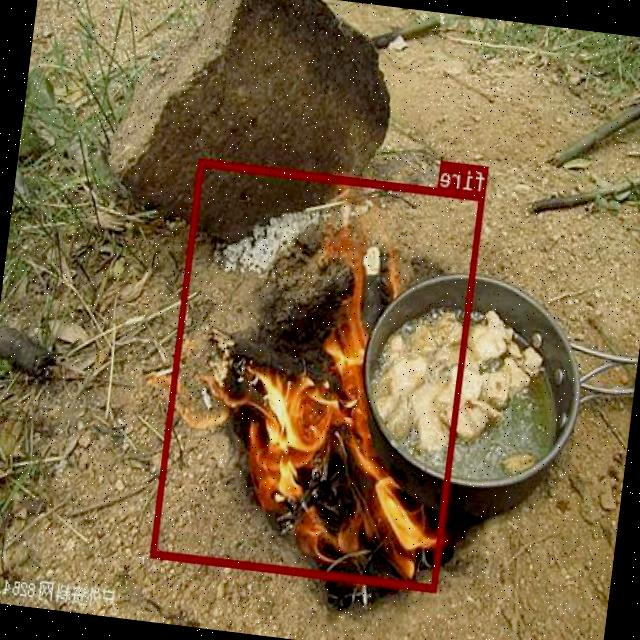fire: (150, 156, 486, 591)
